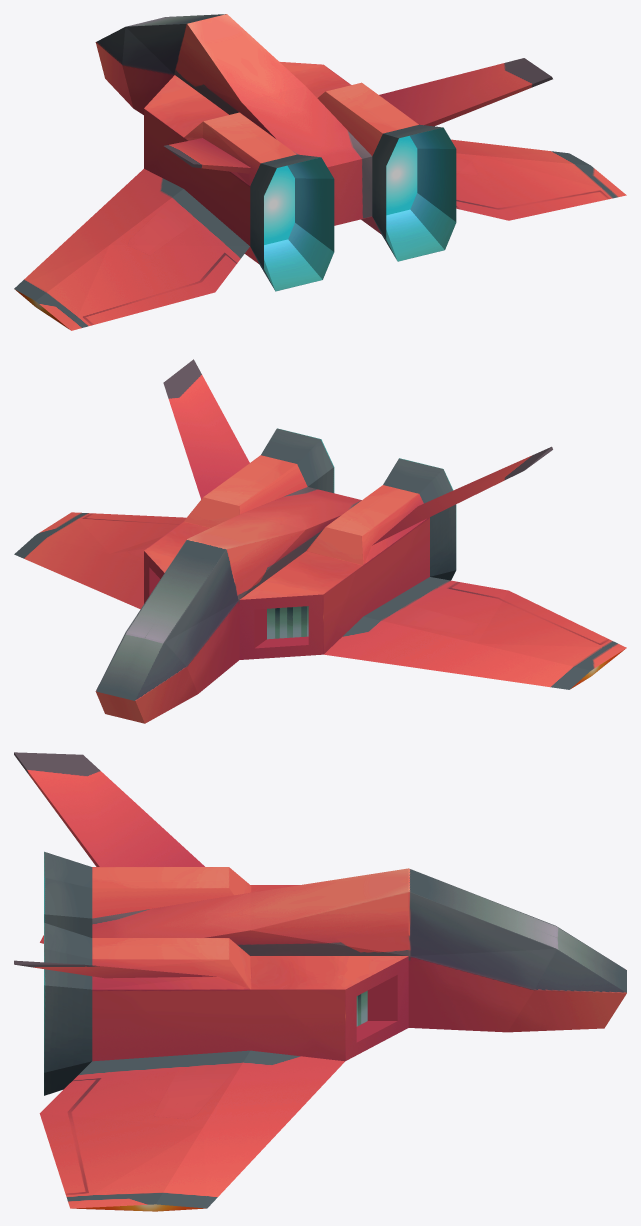
Rendered from ship2.obj.
3 views of the same model, one above another, from view 1: azimuth 30°, elevation 25°; view 2: azimuth 150°, elevation 25°; view 3: azimuth 270°, elevation 25° (orthographic). The views are drawn at different scales.
Visible parts, largest first — view 1: ship_Cube.001; view 2: ship_Cube.001; view 3: ship_Cube.001.
Boxes of the visible parts, x1=… form: ship_Cube.001: x1=14, y1=14, x2=626, y2=330; ship_Cube.001: x1=14, y1=359, x2=626, y2=723; ship_Cube.001: x1=14, y1=752, x2=626, y2=1211.
Size of the model in its own units: 4.83 by 1.35 by 3.87.
Materials: 1 (1 with a texture image).
